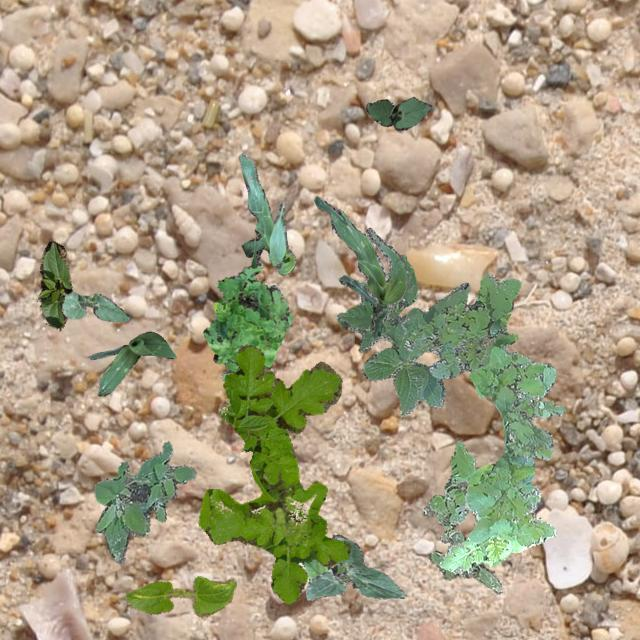crop: (336, 254, 470, 416), (314, 195, 408, 336), (238, 153, 294, 274), (304, 534, 404, 600), (89, 330, 174, 394), (124, 576, 235, 616), (36, 240, 70, 330), (366, 95, 432, 128), (60, 290, 128, 320)
weed: (198, 343, 350, 604), (438, 346, 564, 572), (94, 440, 195, 562), (404, 272, 520, 378), (202, 262, 292, 381), (422, 440, 474, 544), (428, 530, 500, 592), (302, 558, 343, 580)
